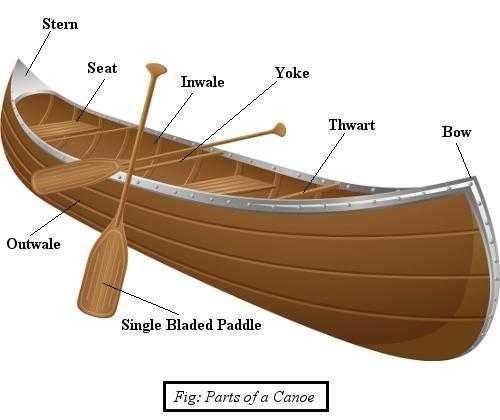kayak: (0, 52, 499, 367)
